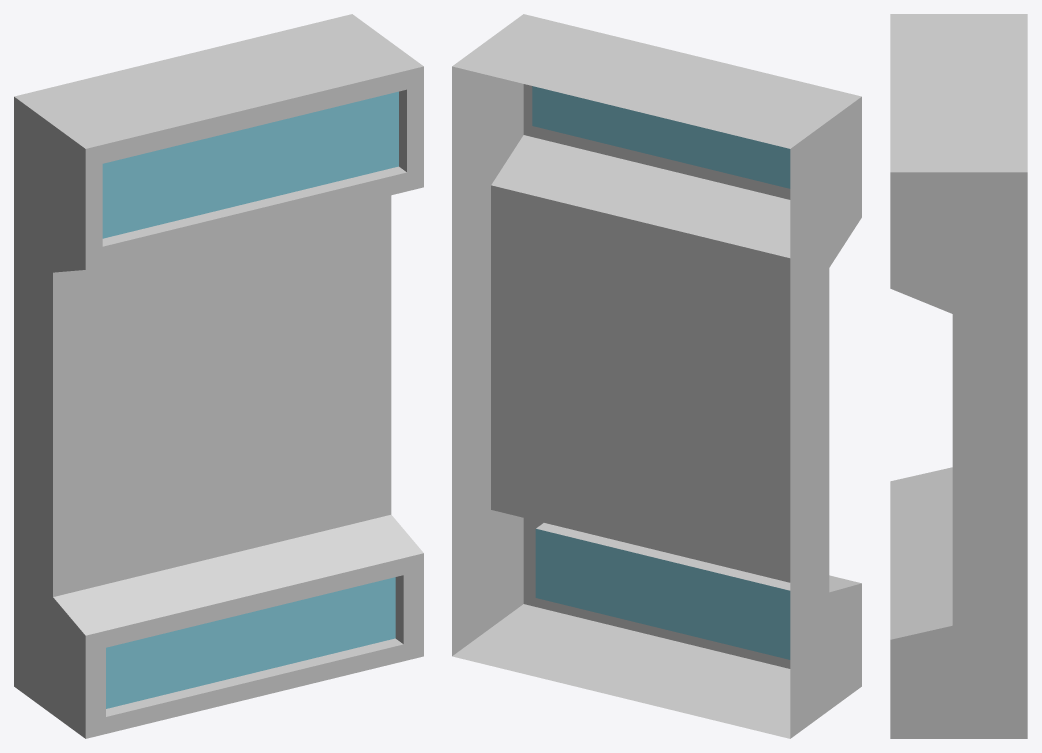
Rendered from dial_holder.fbx.
The picture shows the model from 3 angles, left to right: view 1: azimuth 30°, elevation 25°; view 2: azimuth 150°, elevation 25°; view 3: azimuth 270°, elevation 25°; orthographic projection. The views are drawn at different scales.
Visible parts, largest first — view 1: DialHolder; view 2: DialHolder; view 3: DialHolder.
Part boxes in pixels (x1,y1,x2,y2): DialHolder: (14, 14, 423, 738); DialHolder: (452, 14, 861, 738); DialHolder: (890, 14, 1027, 738).
Size of the model in its own units: 60 by 100 by 22.
